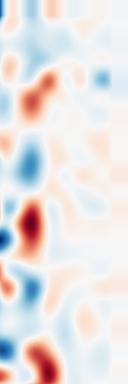filament: (15, 68, 64, 134), (12, 193, 51, 264), (22, 334, 64, 383)
